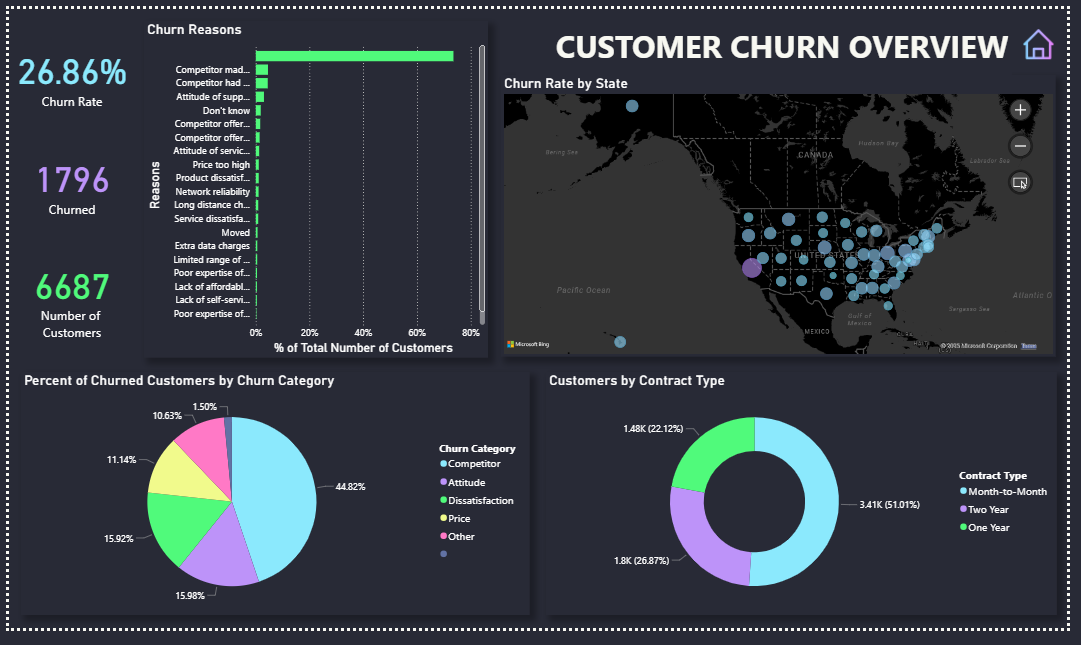

The dashboard page shown, as its layout file describes it:
{"tool":"powerbi","page":{"name":"Overview","canvas":[1640,960],"ordinal":1},"visuals":[{"type":"card","fields":{"Values":["_Measures.Churn Rate"]},"box":[0,0,195,206.7],"z":0},{"type":"card","fields":{"Values":["Sum(Databel - Data.Churned)"]},"box":[0,206.7,195,126.7],"z":1000},{"type":"card","fields":{"Values":["CountNonNull(Databel - Data.Customer ID)"]},"box":[0,333.3,195,206.7],"z":2000},{"type":"barChart","title":"Churn Reasons","fields":{"Y":["_Measures.Number of Customers"],"Category":["Databel - Data.Churn Reason"]},"box":[210,18.3,533.3,521.7],"z":3000},{"type":"pieChart","title":"Percent of Churned Customers by Churn Category","fields":{"Category":["Databel - Data.Churn Category"],"Y":["Divide(_Measures.Number of Churned Customers, ScopedEval(_Measures.Number of Churned Customers, []))"]},"box":[18.3,563.3,788.3,376.7],"z":4000},{"type":"donutChart","title":"Customers by Contract Type","fields":{"Category":["Databel - Data.Contract Type"],"Y":["CountNonNull(Databel - Data.Customer ID)"]},"box":[831.7,563.3,791.7,376.7],"z":5000},{"type":"map","title":"Churn Rate by State","fields":{"Category":["Databel - Data.State"],"Size":["_Measures.Churn Rate"]},"box":[763.3,103.3,860,436.7],"z":6000},{"type":"textbox","box":[786.7,18.3,768.3,85],"z":7000},{"type":"image","box":[1566.7,18.3,56.7,71.7],"z":8000}]}

Visuals, with their boxes in screenshot pixels (x1, y1, x2, y2), scaled from the page's 1640x960 canvas onto the 1081x645 screenshot:
card - _Measures.Churn Rate: region(0, 0, 129, 139)
card - Sum(Databel - Data.Churned): region(0, 139, 129, 224)
card - CountNonNull(Databel - Data.Customer ID): region(0, 224, 129, 363)
"Churn Reasons" barChart: region(138, 12, 490, 363)
"Percent of Churned Customers by Churn Category" pieChart: region(12, 378, 532, 632)
"Customers by Contract Type" donutChart: region(548, 378, 1070, 632)
"Churn Rate by State" map: region(503, 69, 1070, 363)
textbox: region(519, 12, 1025, 69)
image: region(1033, 12, 1070, 60)
